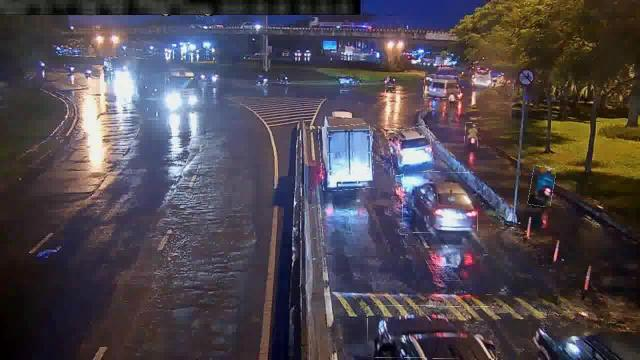Bike: (530, 166, 554, 207), (466, 123, 478, 149)
Bus: (424, 75, 461, 99)
Car: (368, 306, 497, 358), (402, 172, 478, 232), (389, 128, 433, 174)
Truck: (319, 125, 373, 191)
